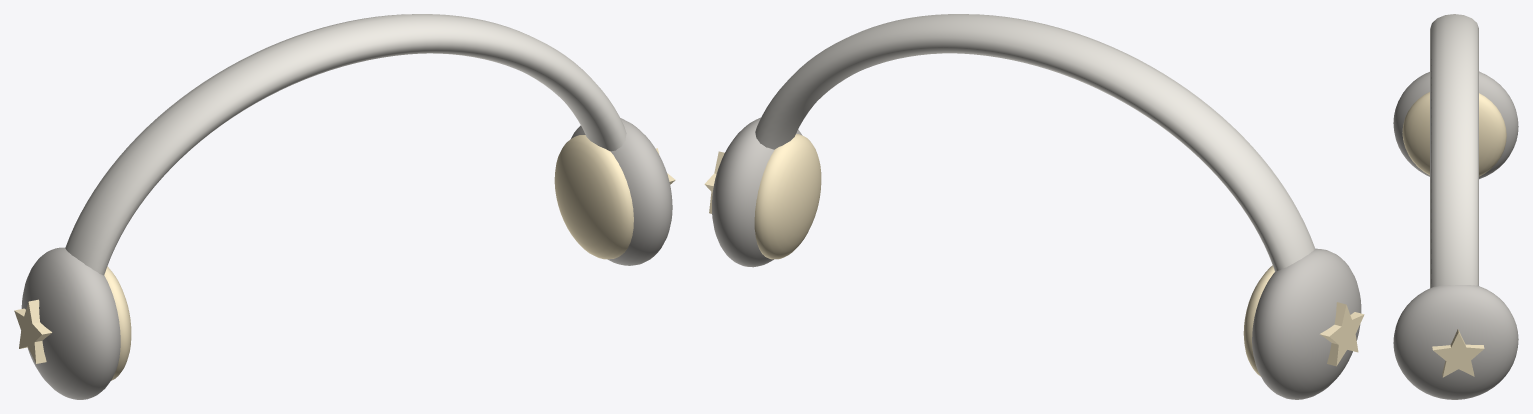
File: headset.glb
The picture shows the model from 3 angles, left to right: view 1: azimuth 30°, elevation 25°; view 2: azimuth 150°, elevation 25°; view 3: azimuth 270°, elevation 25°; orthographic projection. The views are drawn at different scales.
Visible parts, largest first — view 1: headset; view 2: headset; view 3: headset.
Part boxes in pixels (bbox=[...]): headset: bbox=[14, 14, 675, 399]; headset: bbox=[704, 14, 1364, 399]; headset: bbox=[1393, 14, 1518, 399].
Bounding box in the file's own units: 2.17 × 0.9831 × 0.457.
